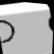no answer: (0, 15, 19, 47)
